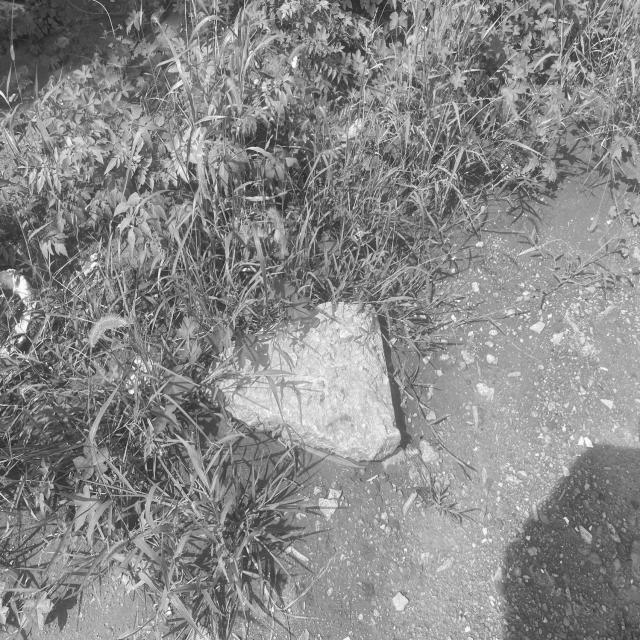Stone: (221, 303, 401, 462)
